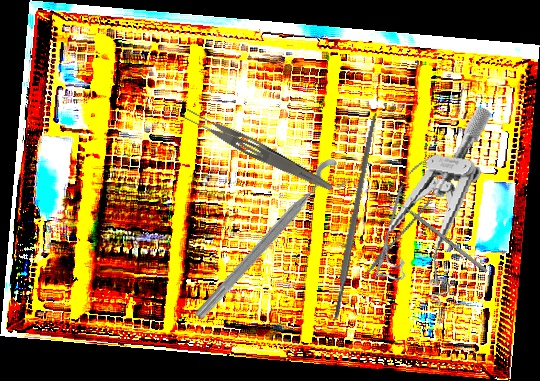Dressing Forceps: (180, 104, 337, 195)
Fixation Ring: (189, 154, 355, 333)
Micro Scissor: (354, 146, 452, 287)
Pusher: (387, 192, 488, 274)
Scalpel Handle: (329, 112, 380, 321)
Speculum: (374, 95, 492, 310)
